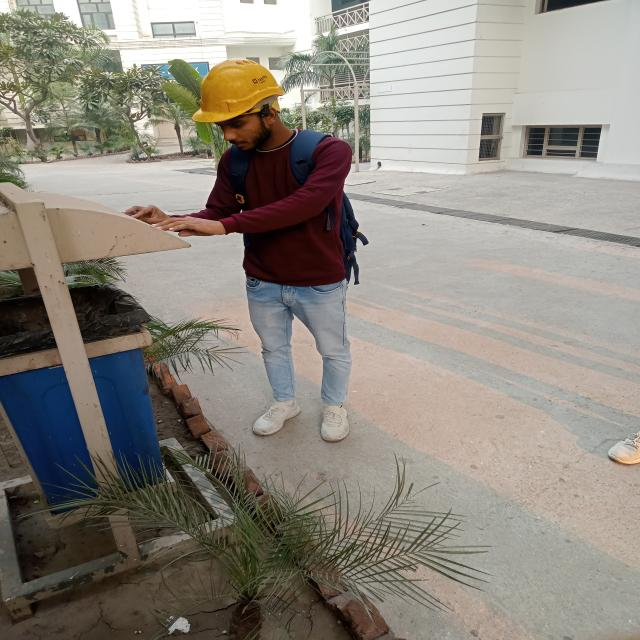no jacket: (180, 56, 374, 447)
